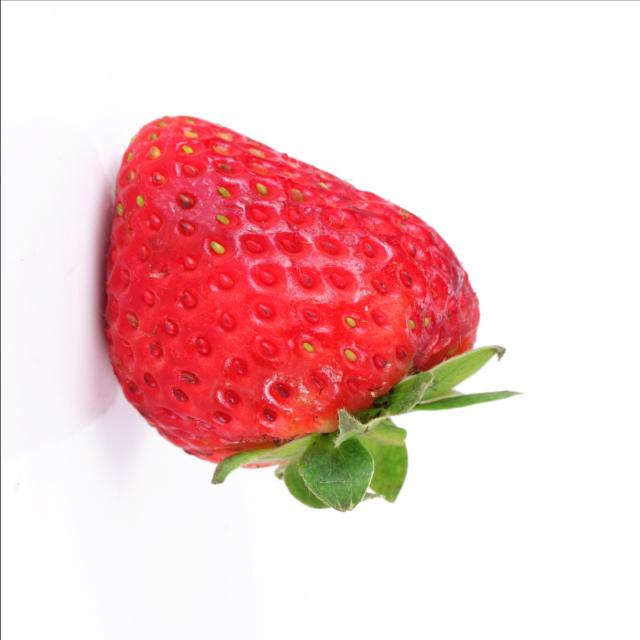strawberry: (72, 84, 510, 540)
